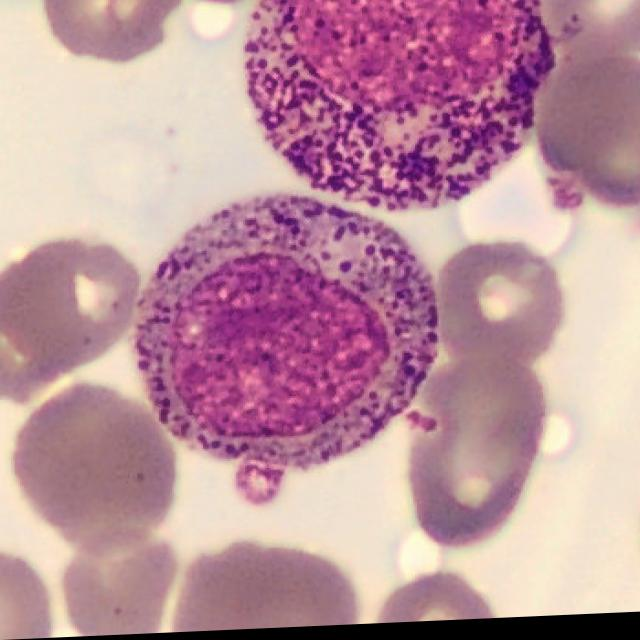Promielocito: (135, 194, 437, 475), (243, 0, 556, 212)
